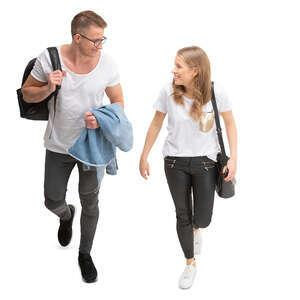short sleeve shirt: (30, 45, 122, 155), (151, 77, 235, 160)
trousers: (42, 148, 104, 258), (162, 154, 218, 260)
